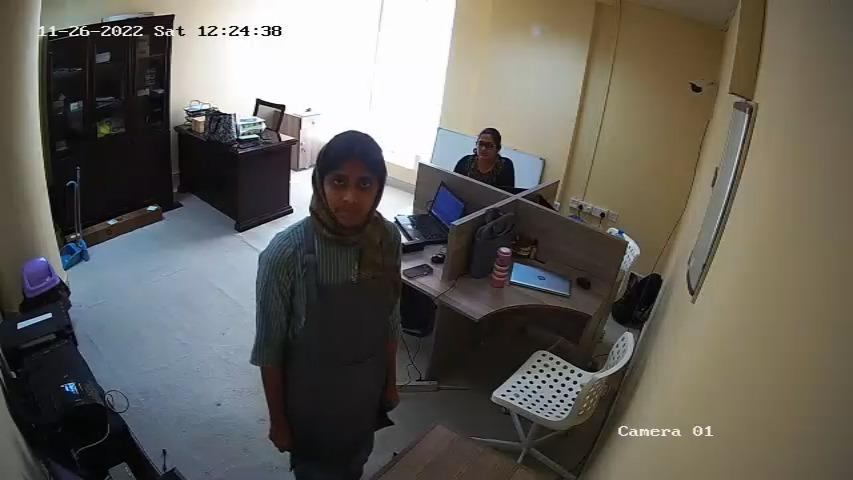apron: (287, 238, 392, 432)
